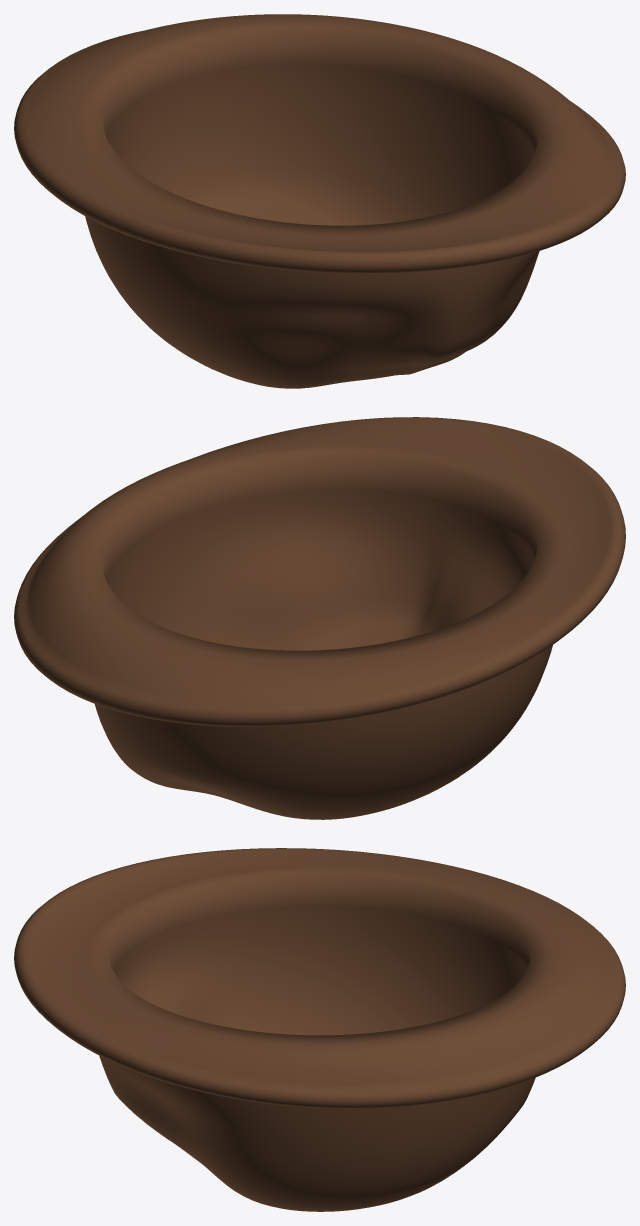
Rendered from fedora.obj.
3 renders of one model, top to bottom at view 1: azimuth 30°, elevation 25°; view 2: azimuth 150°, elevation 25°; view 3: azimuth 270°, elevation 25°, orthographic. The views are drawn at different scales.
Size of the model in its own units: 208 by 92.46 by 244.
